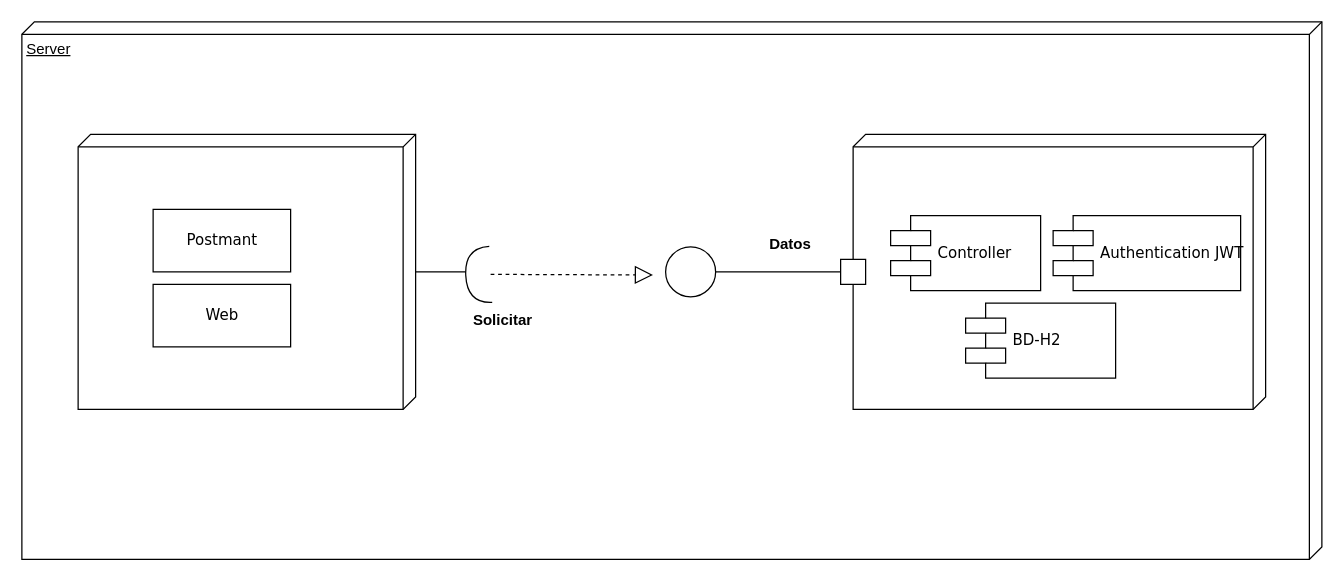
Some shapes in this 1344 by 581 pixel diagram are drawn without their labels. Each missing label, with the box of its shape:
Api RestFull: (852, 133, 1266, 409)
Externo: (77, 133, 416, 409)
